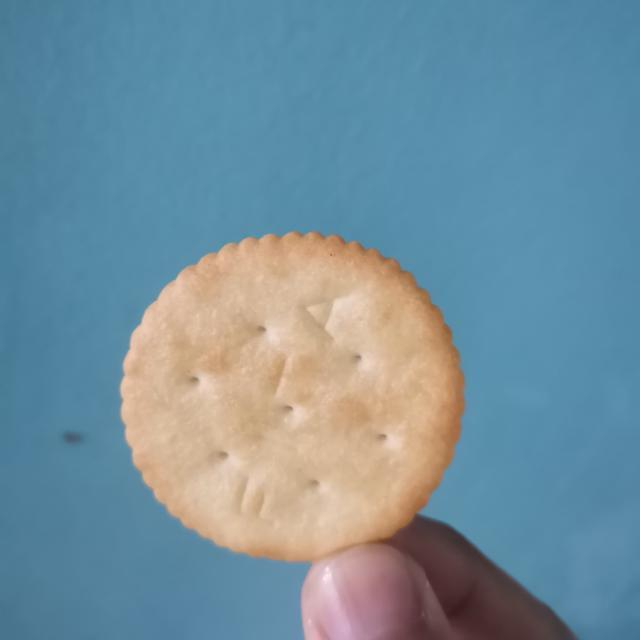Intact: (111, 218, 474, 575)
